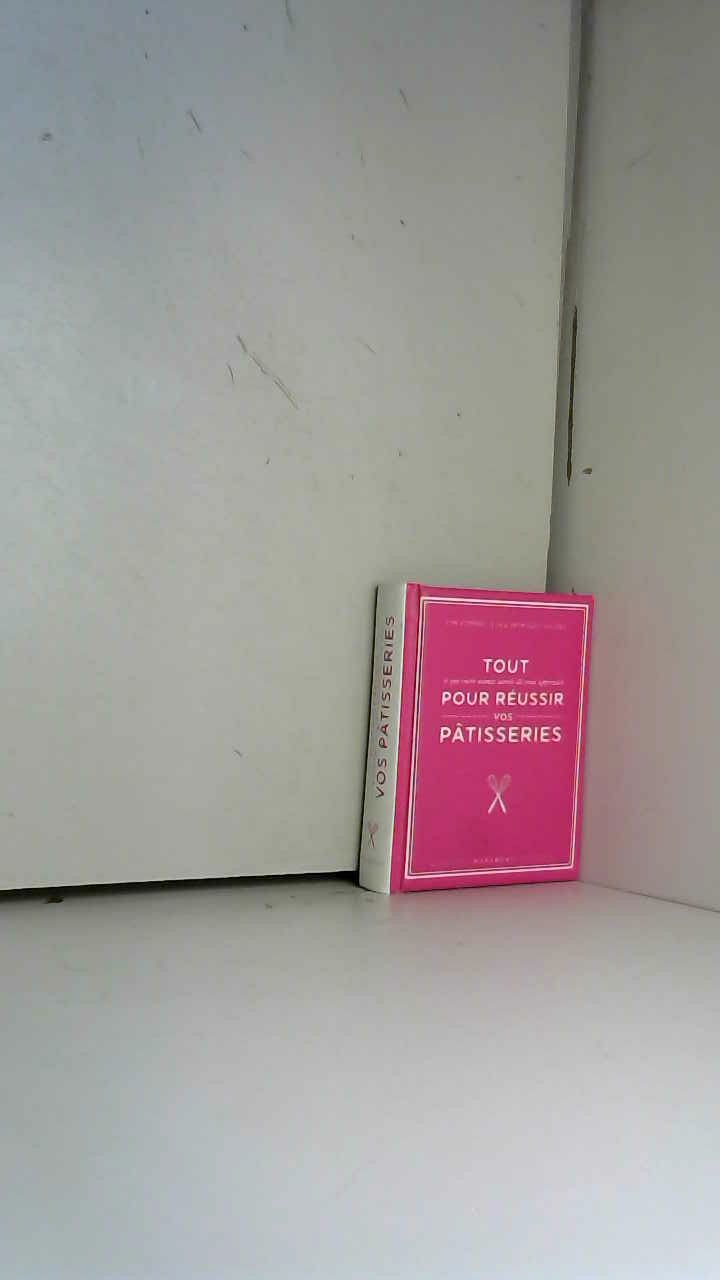book: (337, 560, 612, 912)
